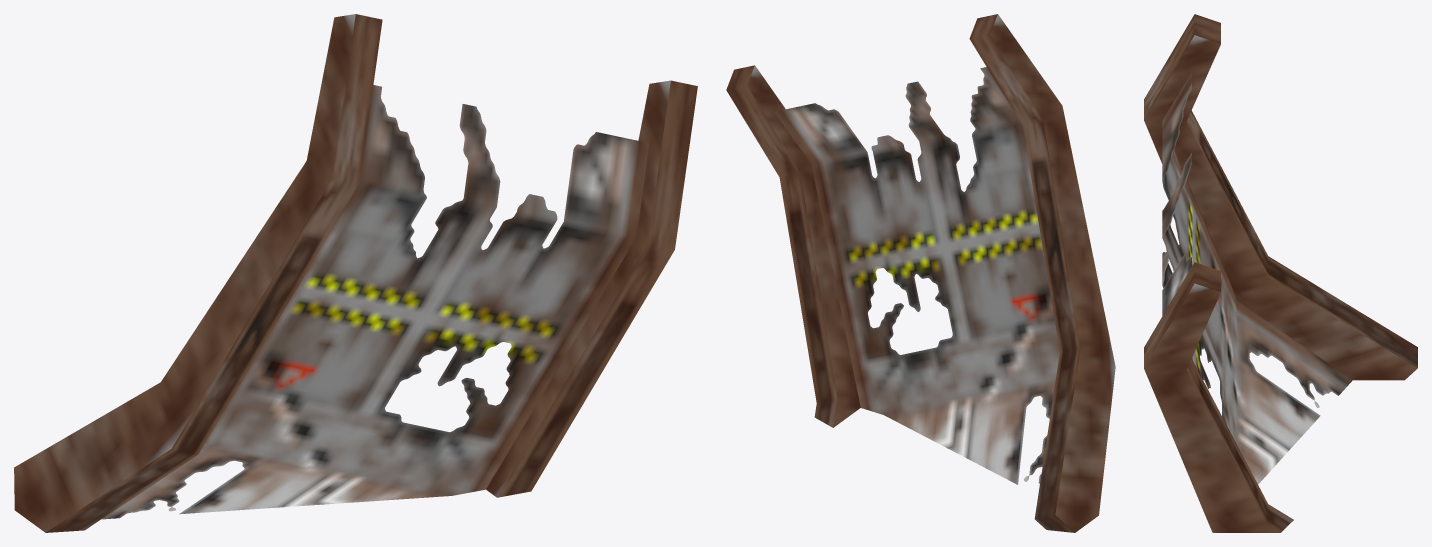
The model's file is junk5.glb.
3 views of the same model, side by side, from view 1: azimuth 30°, elevation 25°; view 2: azimuth 150°, elevation 25°; view 3: azimuth 270°, elevation 25° (orthographic). The views are drawn at different scales.
Visible parts, largest first — view 1: Junk2; view 2: Junk2; view 3: Junk2.
Boxes of the visible parts, x1=… form: Junk2: x1=14, y1=14, x2=697, y2=532; Junk2: x1=726, y1=14, x2=1115, y2=532; Junk2: x1=1144, y1=14, x2=1417, y2=532.
Bounding box in the file's own units: 11.08 × 9.99 × 5.6.
Materials: 1 (1 with a texture image).
